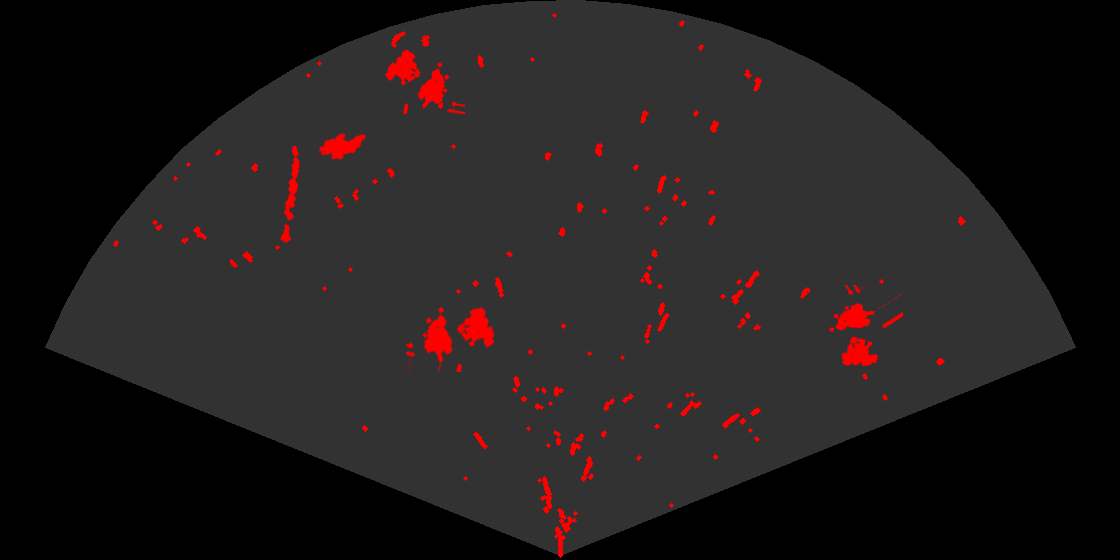AUV: (317, 132, 368, 161)
cage: (828, 285, 903, 368), (406, 305, 496, 372), (383, 48, 465, 114)
chain: (279, 144, 302, 245)
